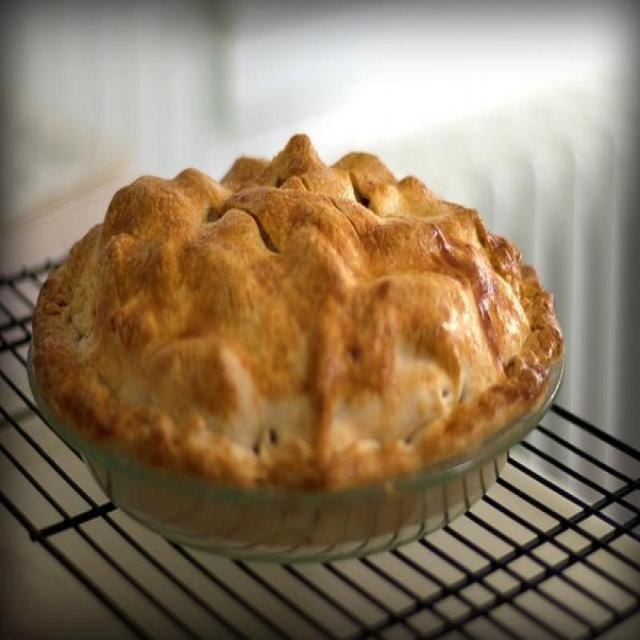Apple: (35, 145, 567, 539)
